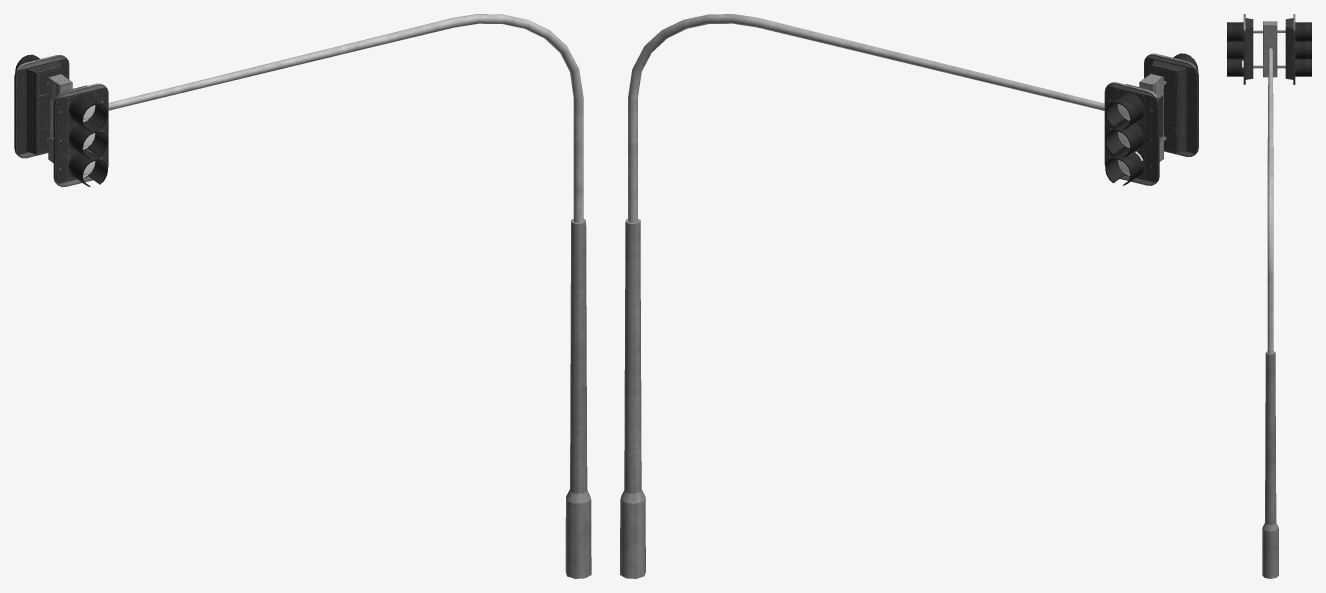
Rendered from PW_Traffic_light_04.fbx.
3 renders of one model, left to right at view 1: azimuth 30°, elevation 25°; view 2: azimuth 150°, elevation 25°; view 3: azimuth 270°, elevation 25°, orthographic. The views are drawn at different scales.
Visible parts, largest first — view 1: PW_Traffic_light_04_LOD0; view 2: PW_Traffic_light_04_LOD0; view 3: PW_Traffic_light_04_LOD0.
Boxes of the visible parts, left/top/right/bottom form: PW_Traffic_light_04_LOD0: left=14, top=14, right=591, bottom=578; PW_Traffic_light_04_LOD0: left=620, top=14, right=1198, bottom=578; PW_Traffic_light_04_LOD0: left=1227, top=14, right=1311, bottom=578.
Size of what is drawn, in the model's own units: 636 by 685 by 133.
